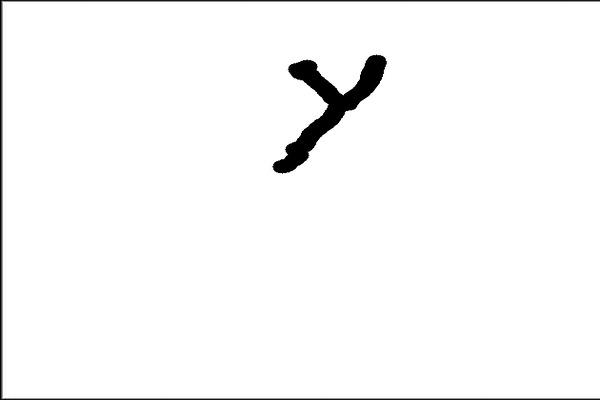Y: (263, 48, 406, 176)
